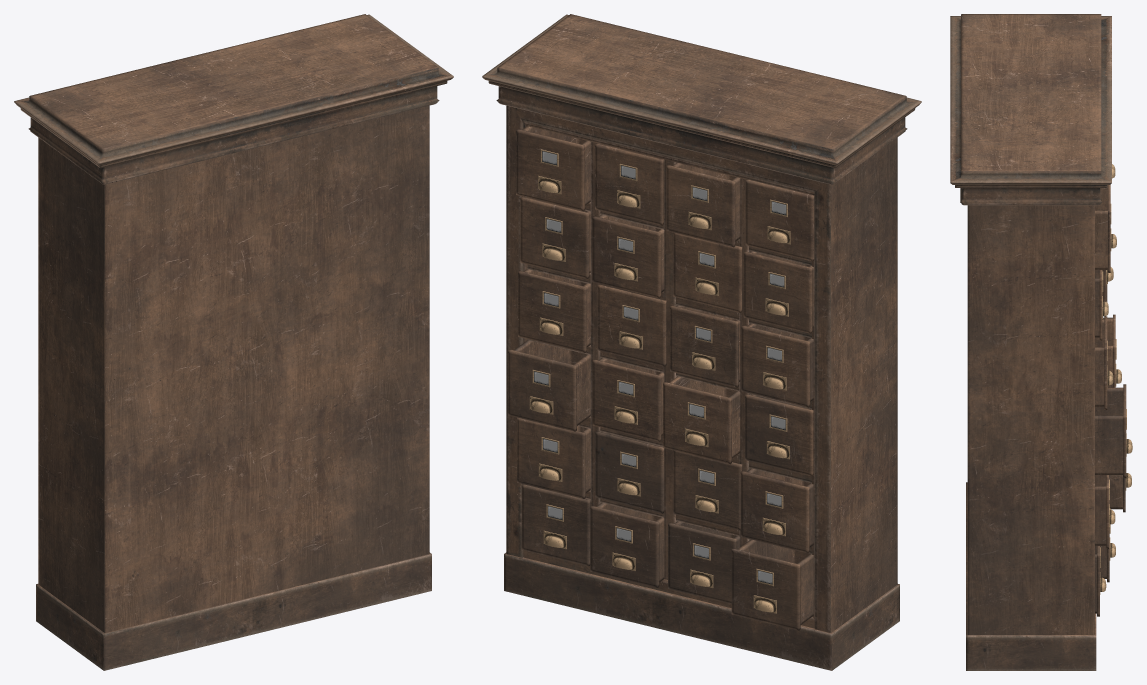
The model's file is SM_Locker01_7_LOD0.glb.
The picture shows the model from 3 angles, left to right: view 1: azimuth 30°, elevation 25°; view 2: azimuth 150°, elevation 25°; view 3: azimuth 270°, elevation 25°; orthographic projection. The views are drawn at different scales.
Parts seen in each view (by area): view 1: SM_Locker01_7_LOD0; view 2: SM_Locker01_7_LOD0; view 3: SM_Locker01_7_LOD0.
Part boxes in pixels (bbox=[...]): SM_Locker01_7_LOD0: bbox=[14, 14, 453, 670]; SM_Locker01_7_LOD0: bbox=[482, 14, 921, 670]; SM_Locker01_7_LOD0: bbox=[950, 14, 1132, 670].
Size of the model in its own units: 1.34 by 1.89 by 0.6206.
1 material, 1 textured.
